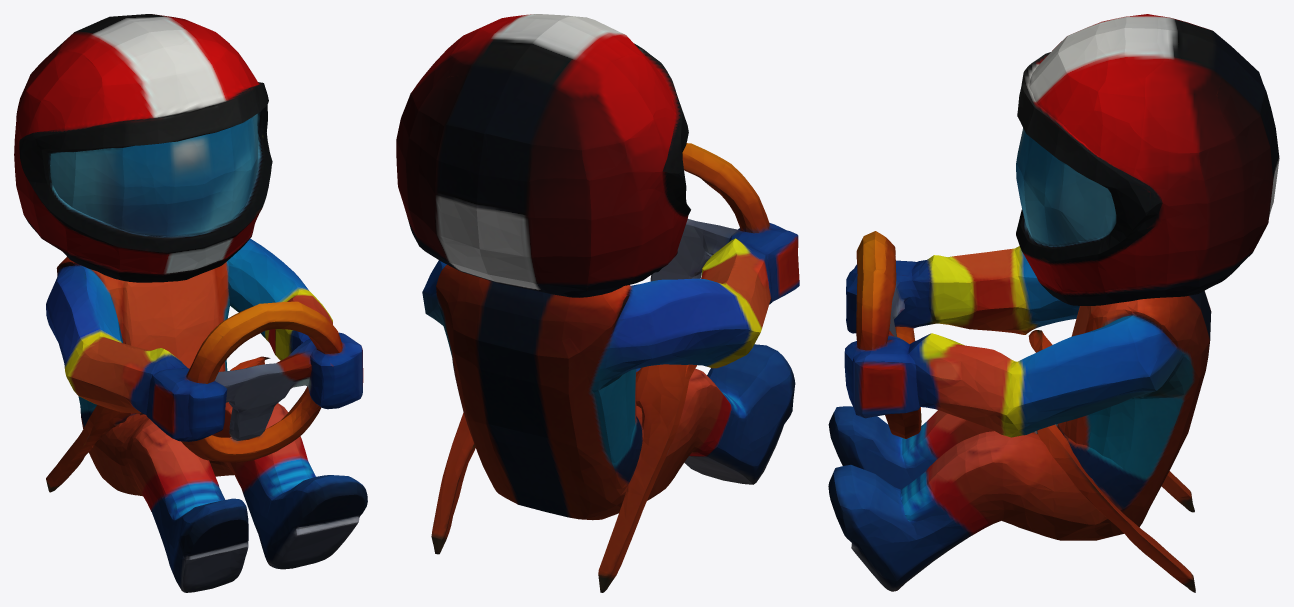
The model's file is trellis_seed42_1775593551.glb.
The picture shows the model from 3 angles, left to right: view 1: azimuth 30°, elevation 25°; view 2: azimuth 150°, elevation 25°; view 3: azimuth 270°, elevation 25°; orthographic projection. The views are drawn at different scales.
Visible parts, largest first — view 1: world; view 2: world; view 3: world.
Boxes of the visible parts, x1,y1,x2,y2 form: world: (14, 14, 367, 592); world: (396, 14, 799, 592); world: (828, 14, 1279, 592).
Bounding box in the file's own units: 0.4847 × 0.8341 × 0.6465.
1 material, 1 textured.
